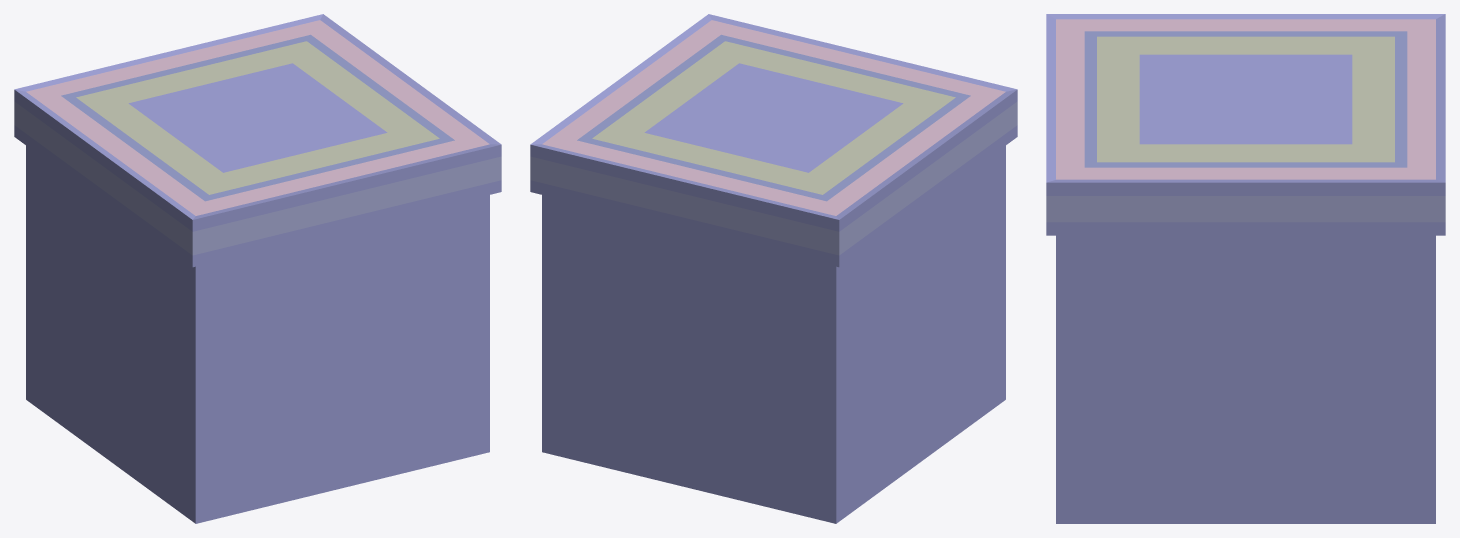
The picture shows the model from 3 angles, left to right: view 1: azimuth 30°, elevation 25°; view 2: azimuth 150°, elevation 25°; view 3: azimuth 270°, elevation 25°; orthographic projection. The views are drawn at different scales.
Parts seen in each view (by area): view 1: G:\FFXIV-MapTools\exports\u5f1\bg\ex4\04_uvs_u5\fld\u5f1\bgp (×2); view 2: G:\FFXIV-MapTools\exports\u5f1\bg\ex4\04_uvs_u5\fld\u5f1\bgp (×2); view 3: G:\FFXIV-MapTools\exports\u5f1\bg\ex4\04_uvs_u5\fld\u5f1\bgp (×2).
Boxes of the visible parts, left/top/right/bottom form: G:\FFXIV-MapTools\exports\u5f1\bg\ex4\04_uvs_u5\fld\u5f1\bgp (×2): left=14, top=14, right=501, bottom=523; G:\FFXIV-MapTools\exports\u5f1\bg\ex4\04_uvs_u5\fld\u5f1\bgp (×2): left=530, top=14, right=1017, bottom=523; G:\FFXIV-MapTools\exports\u5f1\bg\ex4\04_uvs_u5\fld\u5f1\bgp (×2): left=1046, top=14, right=1445, bottom=523.
Bounding box in the file's own units: 1.79 × 1.71 × 1.79.
